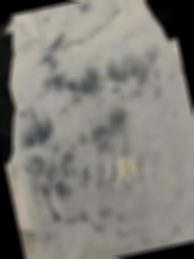ink: (21, 139, 103, 237), (106, 49, 167, 108), (42, 64, 102, 109), (87, 110, 135, 160), (35, 33, 71, 75), (18, 115, 54, 150), (76, 2, 93, 16)
